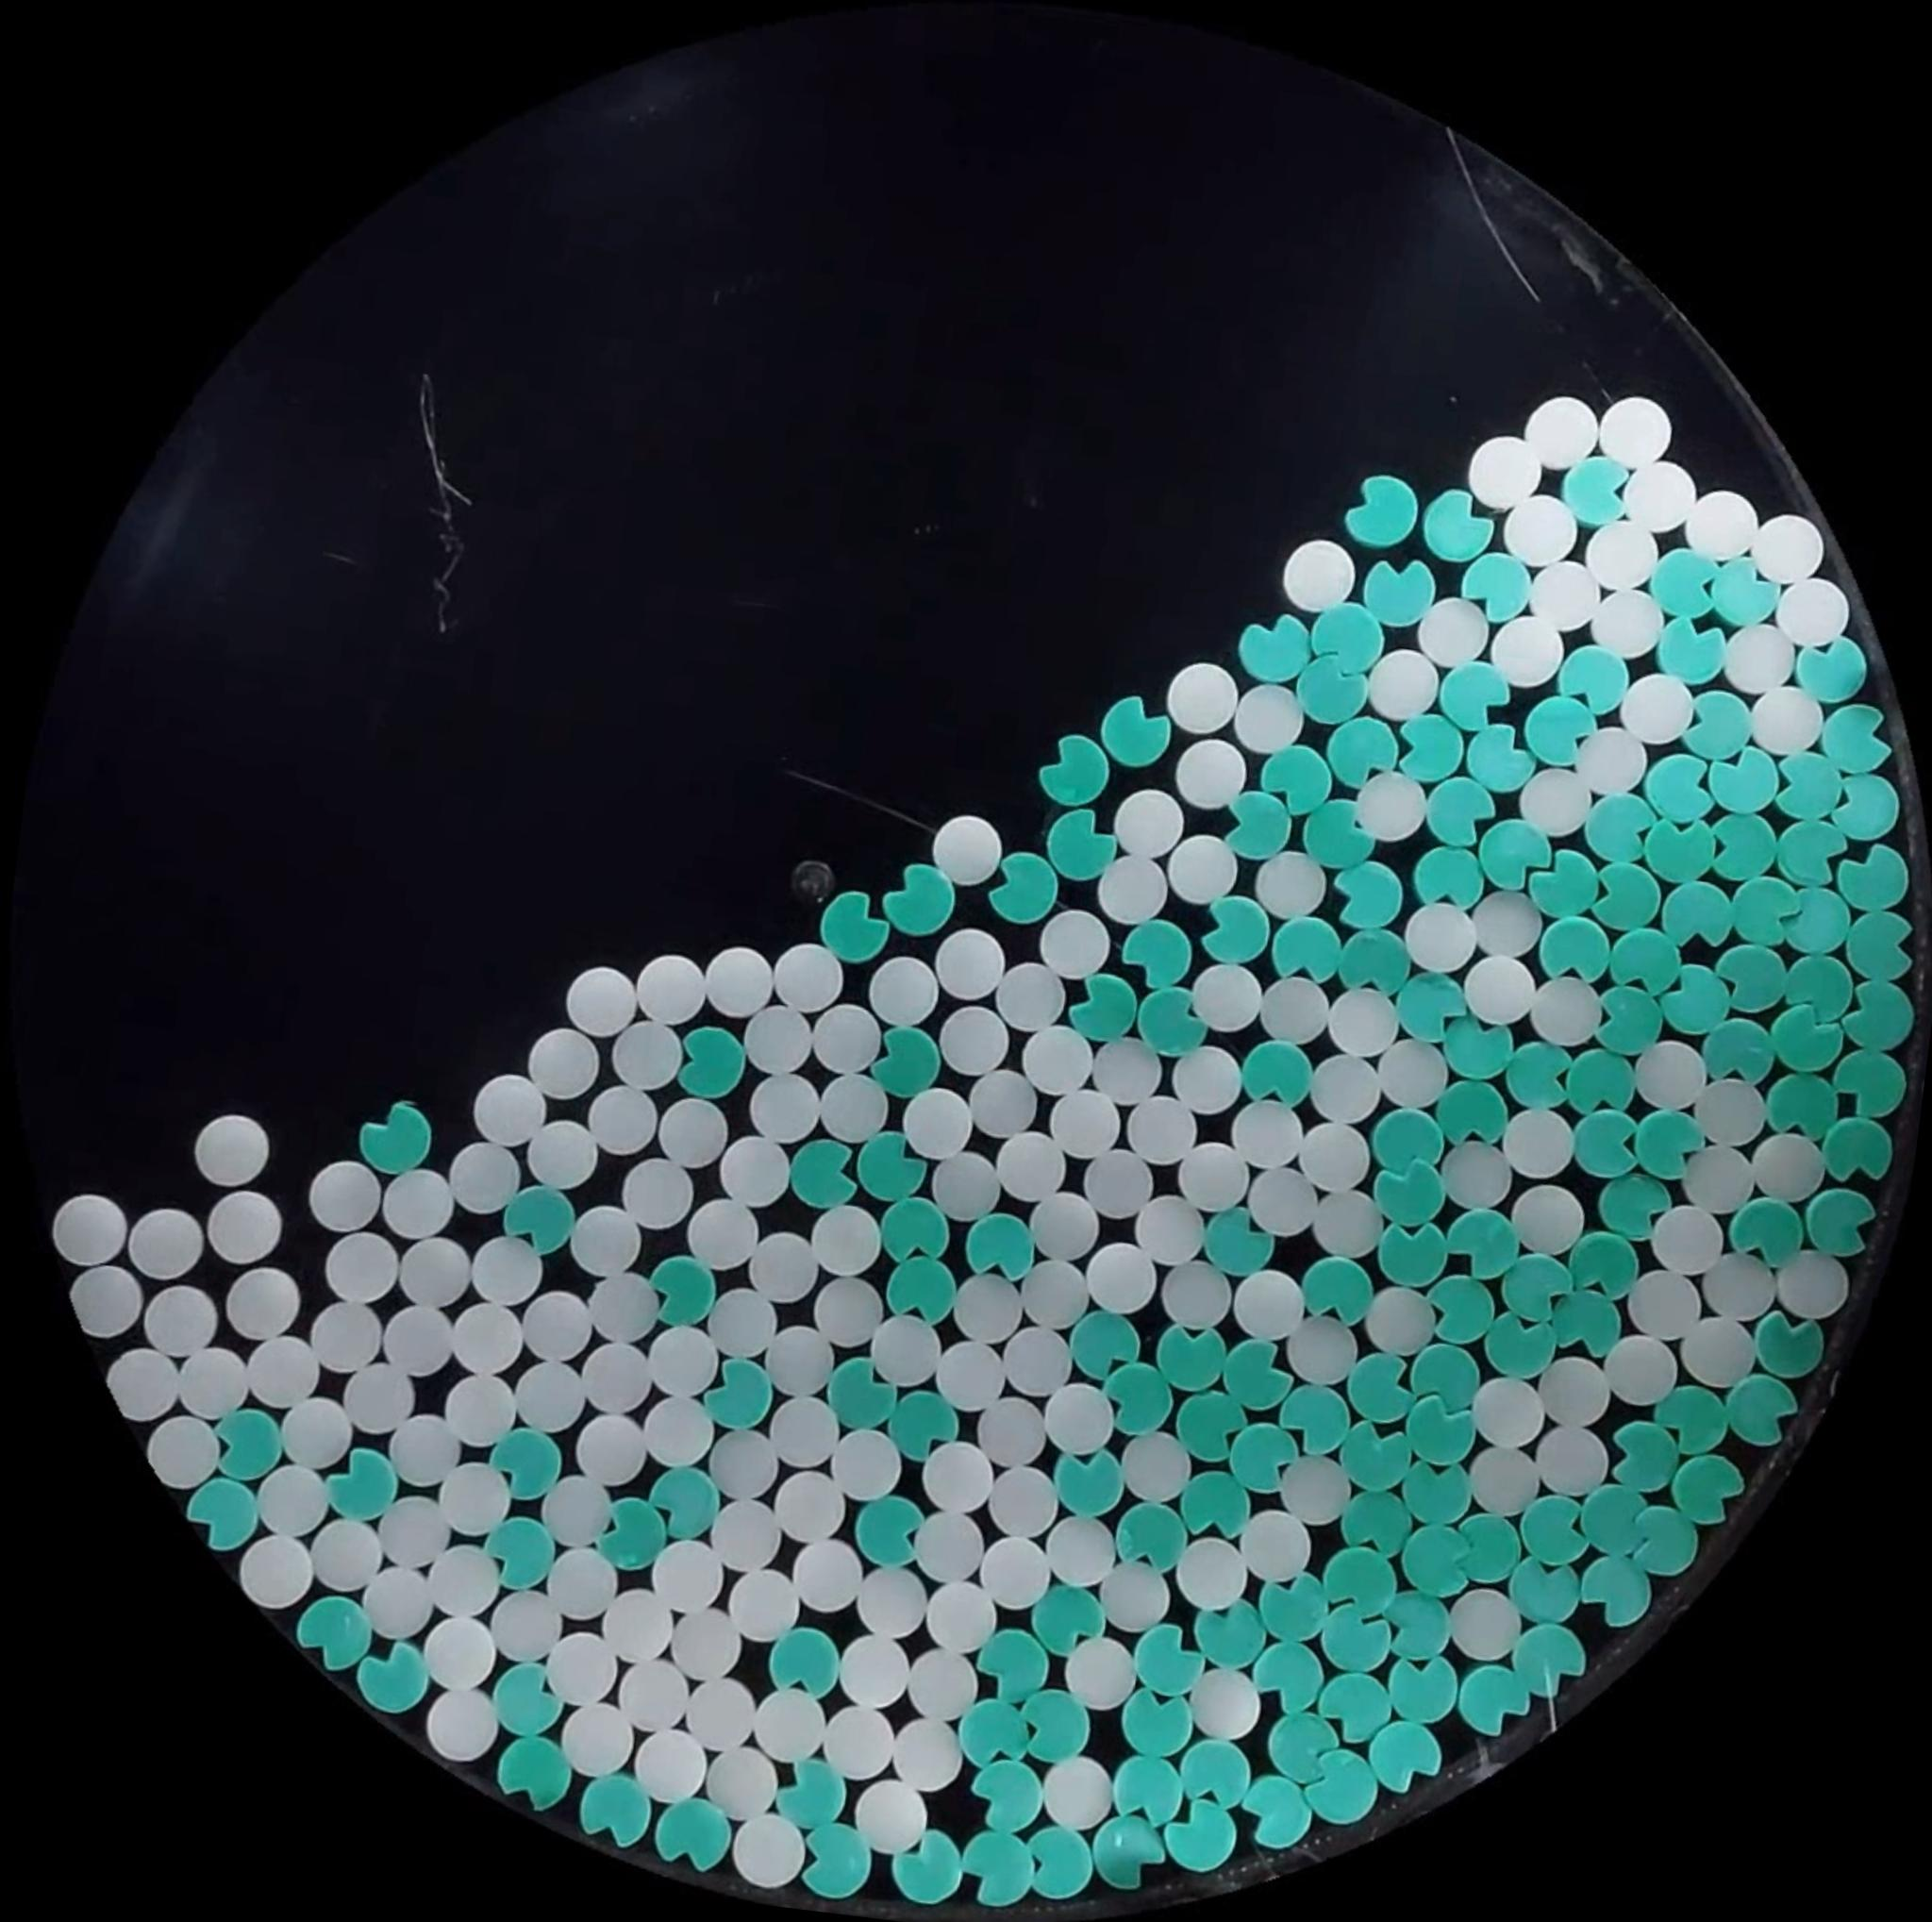disco-pmma: (521, 1095, 614, 1195), (704, 1483, 804, 1575), (538, 1624, 626, 1719), (472, 1056, 560, 1151), (652, 1091, 744, 1179), (604, 1647, 692, 1740), (506, 1345, 600, 1432), (1024, 1175, 1111, 1266), (1236, 1158, 1324, 1246), (449, 1295, 538, 1383), (1617, 1264, 1711, 1347), (709, 1131, 798, 1219), (532, 1542, 619, 1631), (724, 1560, 819, 1642), (100, 1341, 189, 1428), (1120, 1087, 1210, 1172), (832, 1619, 917, 1709), (600, 1580, 690, 1665), (234, 1527, 321, 1613), (1675, 1310, 1762, 1396), (804, 1254, 887, 1345), (419, 1610, 505, 1696), (46, 1188, 134, 1273), (1301, 1040, 1385, 1128), (541, 1474, 632, 1556), (372, 1491, 457, 1578), (579, 1266, 666, 1351), (804, 1061, 892, 1144), (375, 1295, 458, 1384), (251, 1459, 336, 1545), (923, 1140, 1008, 1226), (1694, 1245, 1781, 1329), (1596, 1328, 1683, 1412), (603, 1011, 690, 1095), (992, 1124, 1075, 1212), (438, 1128, 521, 1216), (748, 1681, 833, 1766), (319, 1223, 404, 1308), (941, 1267, 1026, 1352), (791, 1537, 875, 1622), (1495, 1101, 1581, 1185), (1443, 1581, 1529, 1665), (335, 1357, 422, 1440), (734, 1059, 822, 1141), (745, 996, 826, 1085), (303, 1512, 387, 1596), (628, 1722, 713, 1806), (222, 1261, 306, 1345), (202, 1184, 287, 1268), (1688, 1070, 1774, 1153), (694, 939, 777, 1025), (1743, 1126, 1830, 1208), (1170, 1531, 1254, 1615), (1503, 1178, 1587, 1262), (1532, 1351, 1617, 1434), (141, 1279, 224, 1364), (891, 1647, 975, 1730), (240, 1321, 323, 1406), (1643, 1197, 1729, 1279), (651, 1533, 732, 1620), (1468, 1371, 1552, 1454), (1059, 1630, 1143, 1713), (1234, 1503, 1317, 1587), (142, 1410, 226, 1493), (421, 1681, 504, 1765), (125, 1202, 208, 1286), (1079, 1235, 1164, 1317), (700, 1741, 785, 1823), (1125, 1184, 1210, 1266), (384, 1408, 464, 1495), (1094, 1553, 1177, 1636), (851, 1772, 934, 1855), (1677, 1136, 1760, 1219), (1464, 430, 1547, 513), (66, 1259, 149, 1342), (902, 1081, 985, 1164), (637, 1389, 720, 1472), (1519, 391, 1603, 473), (1523, 972, 1607, 1053), (1275, 534, 1360, 615), (1614, 668, 1699, 749), (191, 1108, 275, 1189), (1743, 679, 1828, 760), (1458, 946, 1543, 1028), (1529, 1416, 1615, 1496), (279, 1391, 366, 1470), (1185, 957, 1268, 1039), (1274, 1449, 1357, 1531), (1487, 610, 1570, 692), (305, 1155, 387, 1238), (398, 1226, 481, 1308), (1292, 1115, 1376, 1196), (1086, 1034, 1170, 1115), (1301, 1186, 1386, 1266), (757, 1313, 841, 1394), (868, 1307, 947, 1393), (422, 1541, 504, 1623), (1582, 514, 1665, 595), (1411, 593, 1494, 674), (1169, 732, 1252, 813), (1360, 643, 1443, 725), (1228, 1263, 1311, 1345), (1770, 1245, 1853, 1326), (1498, 490, 1582, 570), (974, 1529, 1053, 1613), (797, 1199, 884, 1277), (749, 1219, 826, 1306), (1116, 1425, 1198, 1506), (729, 1808, 810, 1890), (1523, 556, 1606, 636), (855, 1563, 938, 1644), (831, 1424, 910, 1508), (1157, 1256, 1241, 1334), (1038, 1510, 1123, 1588), (1720, 619, 1801, 700), (928, 923, 1009, 1004), (630, 947, 711, 1028), (1465, 1440, 1547, 1520), (1255, 972, 1338, 1051), (1630, 1036, 1713, 1115), (1349, 767, 1432, 846), (1679, 485, 1762, 564), (1360, 1281, 1443, 1361), (919, 1432, 998, 1515), (557, 1693, 636, 1776), (485, 1583, 564, 1666), (1075, 1140, 1160, 1217), (1172, 1136, 1253, 1216), (1107, 783, 1188, 863), (1402, 897, 1483, 978), (1619, 458, 1700, 538), (523, 1021, 604, 1101), (802, 992, 883, 1072), (441, 1369, 523, 1449), (1280, 1310, 1362, 1389), (1747, 509, 1829, 588), (1772, 572, 1855, 650), (1035, 1379, 1118, 1458), (516, 1285, 594, 1368), (1034, 904, 1115, 983), (1226, 679, 1307, 759), (1008, 1020, 1087, 1101), (766, 1391, 847, 1470), (1569, 723, 1652, 800), (1186, 1664, 1266, 1744), (768, 938, 848, 1017), (1594, 392, 1675, 470), (1587, 584, 1668, 662), (685, 1196, 766, 1275), (353, 1563, 437, 1638), (562, 961, 641, 1040), (1517, 762, 1598, 840), (1045, 1083, 1124, 1162), (983, 1461, 1061, 1540), (666, 1607, 745, 1685), (1163, 657, 1243, 734), (1252, 845, 1332, 923), (994, 960, 1072, 1040), (305, 1299, 382, 1379), (921, 1574, 1004, 1648), (1162, 829, 1241, 908), (928, 810, 1007, 888), (586, 1081, 664, 1160), (980, 1393, 1058, 1472), (936, 1004, 1013, 1083), (1467, 886, 1547, 962), (778, 1472, 855, 1552), (894, 1710, 968, 1793), (585, 1336, 658, 1419), (175, 1342, 249, 1425), (574, 1194, 651, 1272), (1094, 849, 1172, 927), (1374, 1036, 1451, 1113), (932, 1334, 1009, 1412), (432, 1462, 509, 1540), (1319, 983, 1398, 1059), (706, 1283, 780, 1363), (566, 1412, 641, 1493), (471, 1234, 547, 1312), (1438, 1138, 1516, 1213), (1174, 1039, 1247, 1119), (1040, 1757, 1117, 1832), (908, 1506, 985, 1581), (679, 1674, 755, 1751), (1230, 1098, 1306, 1175), (1017, 1257, 1094, 1331), (868, 949, 940, 1029), (1002, 1321, 1075, 1398), (824, 1700, 896, 1778), (964, 1064, 1036, 1139), (646, 1321, 715, 1397), (380, 1166, 451, 1240), (709, 1420, 779, 1493), (618, 1157, 687, 1230)
